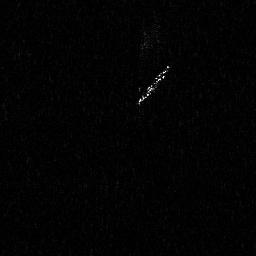ship: (136, 64, 172, 107)
